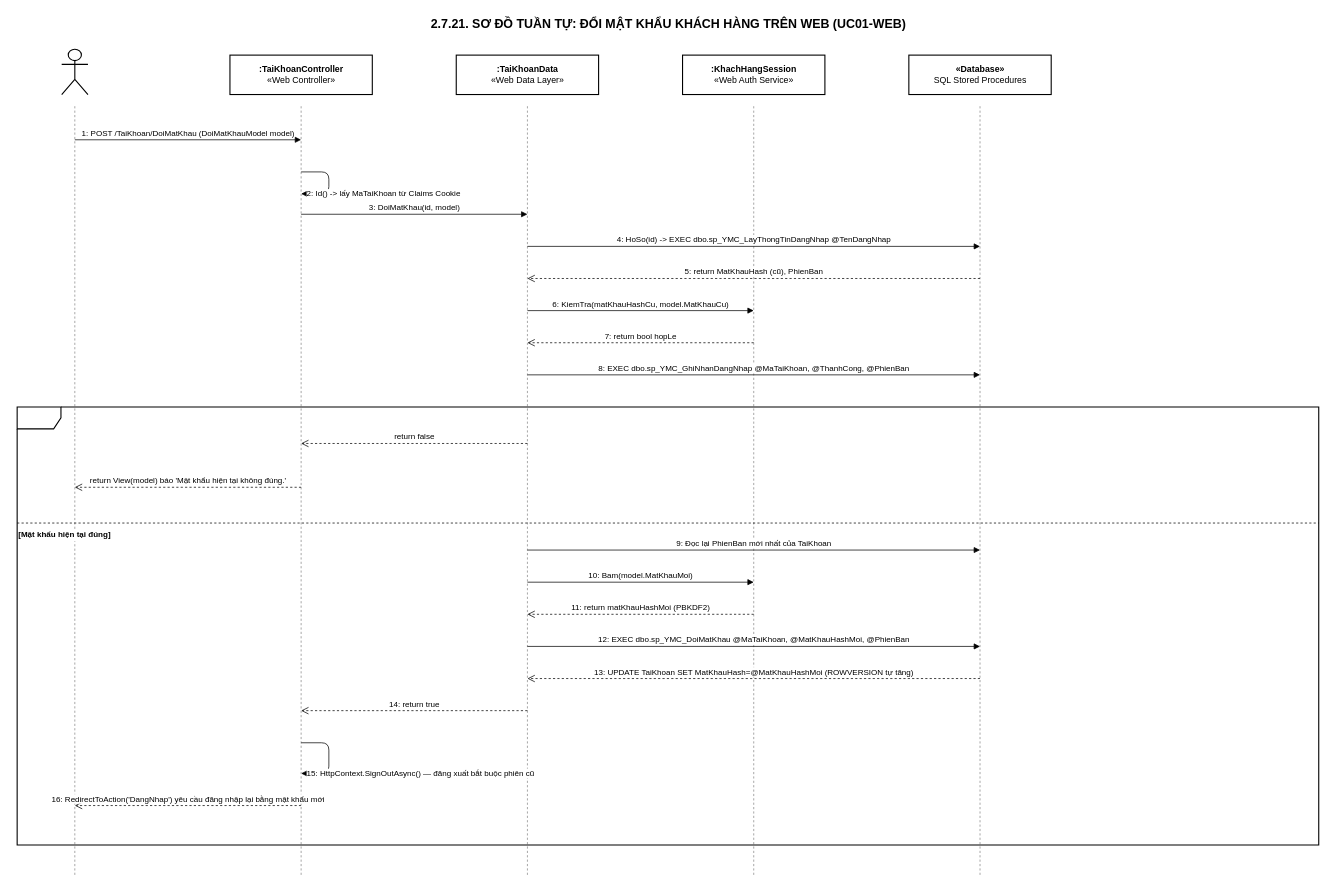
The diagram is 1335 pixels wide and 888 high, and some of its shapes have lost their labels. Here are the shapes that lost their labels. From the top down, the box of each, then its label:
(61, 48, 88, 95): :KhachHang (Trình duyệt Web)
(16, 406, 1319, 845): alt [Mật khẩu hiện tại không đúng]
